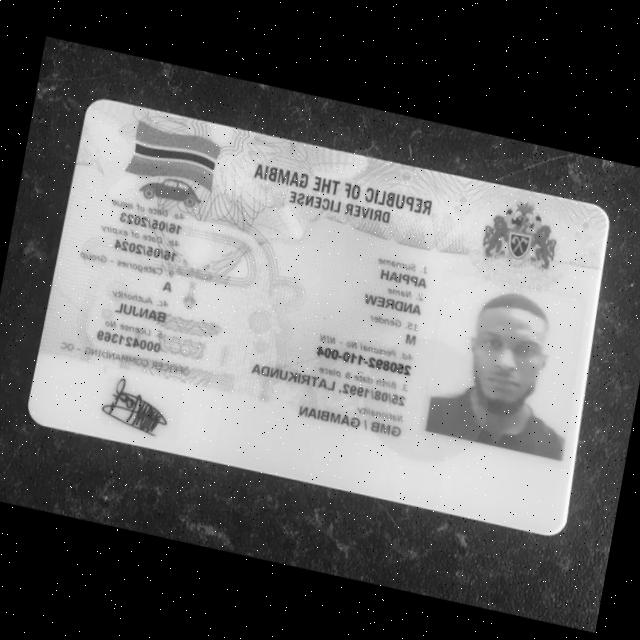card: (28, 101, 607, 534)
